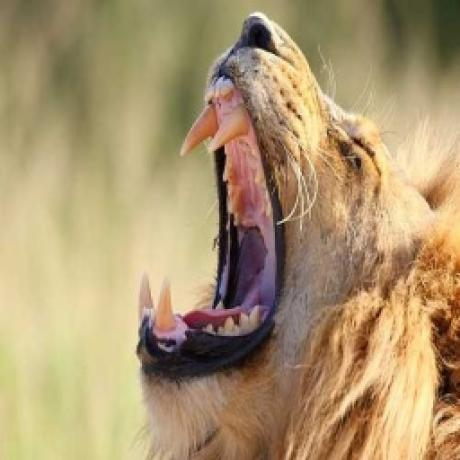Lion: (131, 0, 460, 460)
